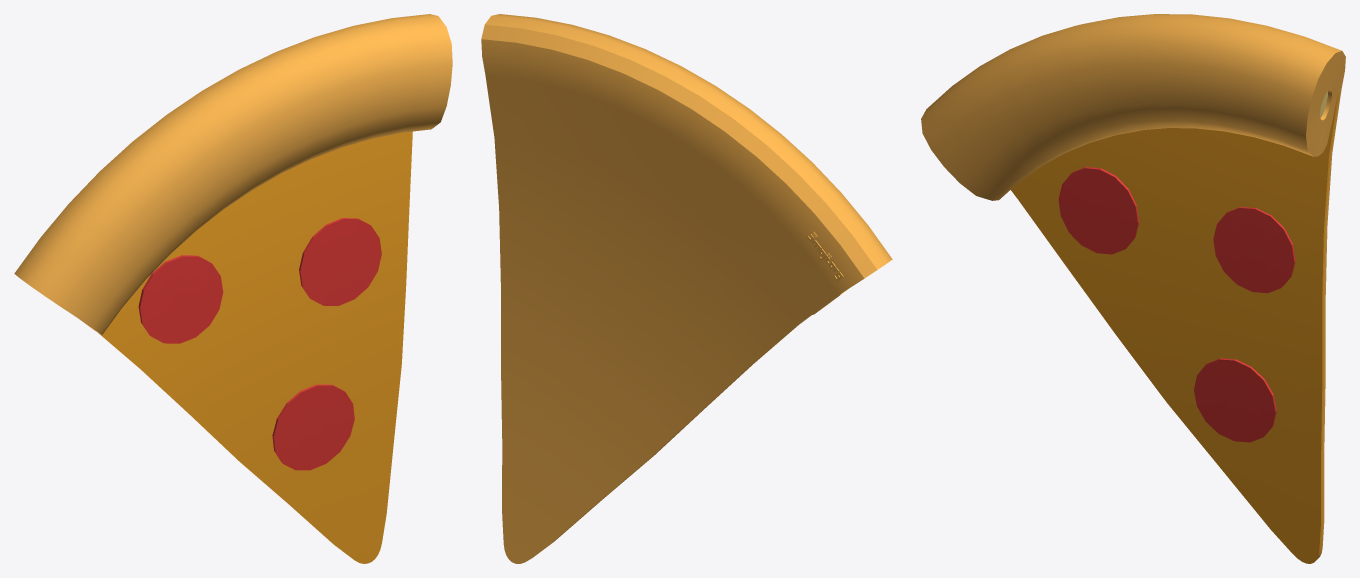
File: pizza.fbx
3 renders of one model, left to right at view 1: azimuth 30°, elevation 25°; view 2: azimuth 150°, elevation 25°; view 3: azimuth 330°, elevation 25°, orthographic. The views are drawn at different scales.
Visible parts, largest first — view 1: Circle.2210; view 2: Circle.2210; view 3: Circle.2210.
Boxes of the visible parts, x1=… form: Circle.2210: x1=14, y1=14, x2=452, y2=563; Circle.2210: x1=481, y1=14, x2=892, y2=563; Circle.2210: x1=921, y1=14, x2=1345, y2=563.
Size of the model in its own units: 187 by 237 by 35.02.
1 material, 1 textured.
